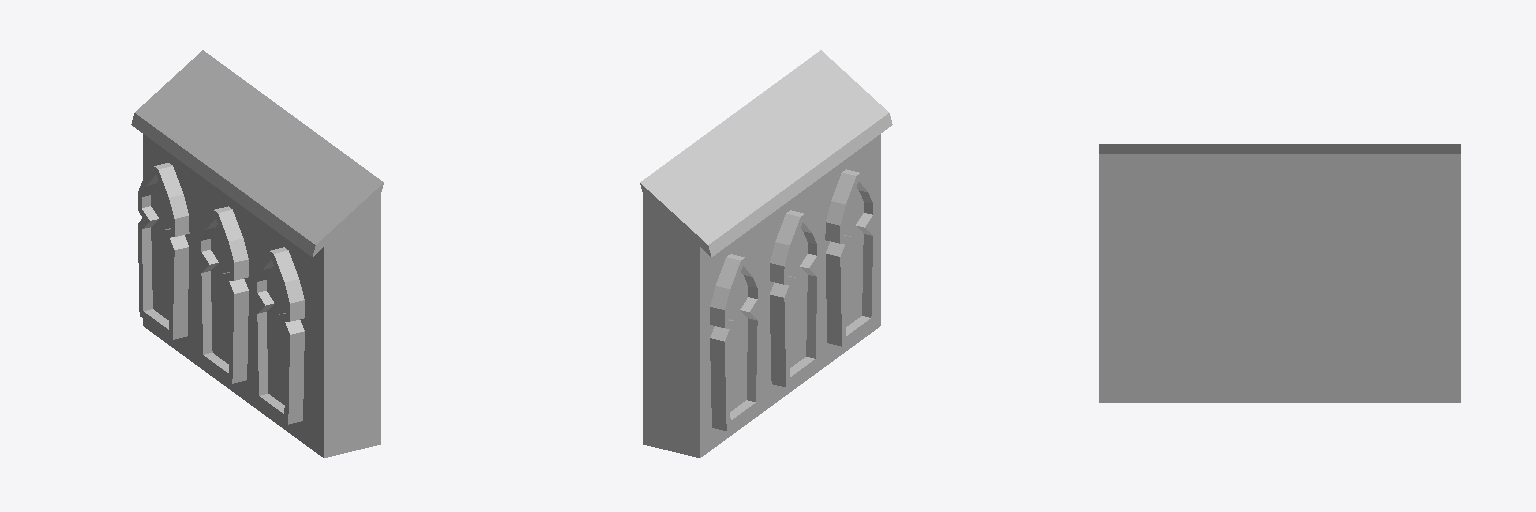
The model's file is BG_FENETRE_02.obj.
3 views of the same model, side by side, from view 1: azimuth 30°, elevation 25°; view 2: azimuth 150°, elevation 25°; view 3: azimuth 270°, elevation 25° (orthographic).
Visible parts, largest first — view 1: polySurface49; view 2: polySurface49; view 3: polySurface49.
Part boxes in pixels (left/top/right/bottom): polySurface49: left=131, top=50, right=383, bottom=457; polySurface49: left=640, top=50, right=892, bottom=457; polySurface49: left=1099, top=144, right=1460, bottom=402.
Size of the model in its own units: 80.22 by 267 by 335.